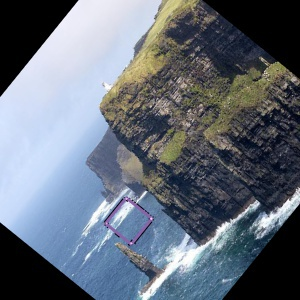square: (102, 195, 155, 246)
